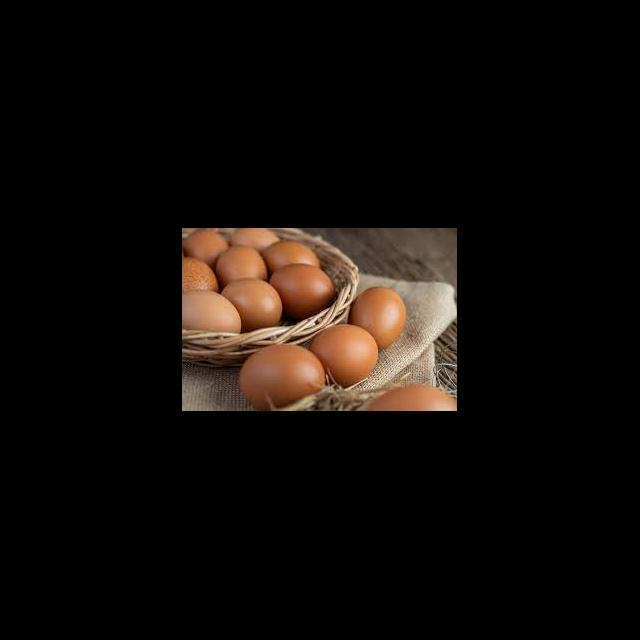egg: (238, 344, 326, 409), (310, 323, 378, 388), (349, 286, 406, 348), (366, 384, 456, 410)
